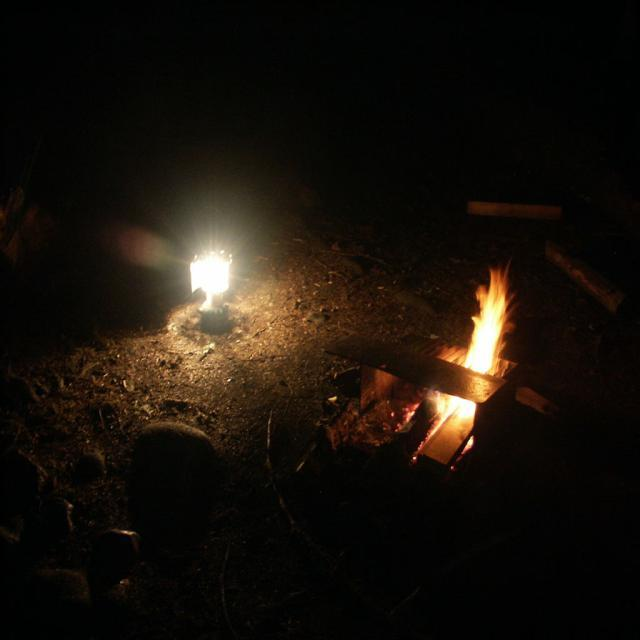Fire: (449, 262, 514, 455), (184, 242, 238, 317)
